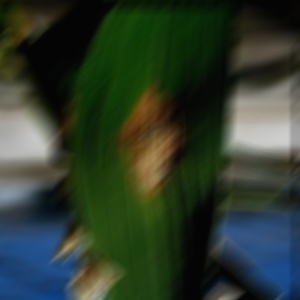Brown_Spot: (105, 72, 199, 204)
